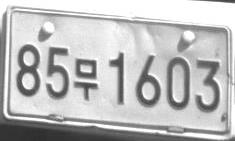0: (166, 55, 190, 110)
1: (107, 52, 131, 105)
3: (195, 59, 220, 112)
5: (46, 46, 69, 100)
6: (135, 54, 161, 108)
8: (15, 43, 41, 97)
무: (73, 58, 98, 100)
